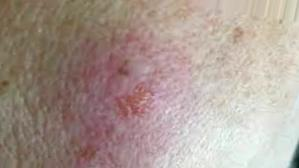Spider: (77, 36, 190, 166)
